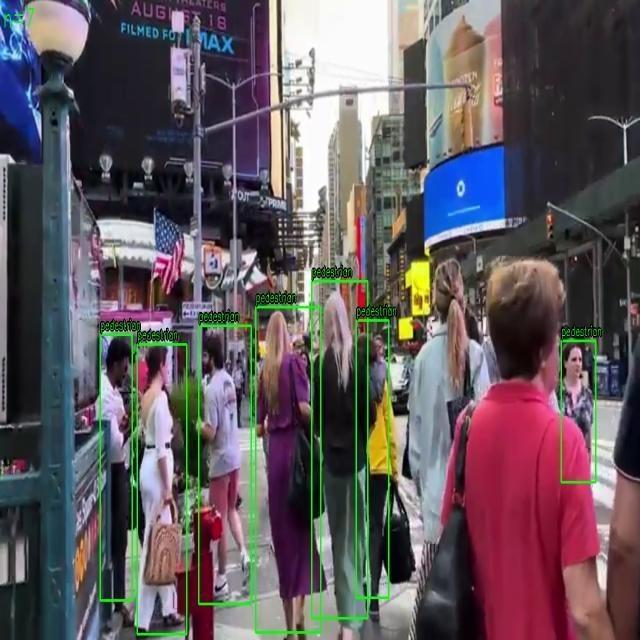person: (256, 307, 320, 633), (312, 281, 368, 619), (198, 326, 252, 604), (137, 344, 187, 634), (356, 320, 389, 598), (100, 334, 132, 601), (561, 340, 596, 482)
